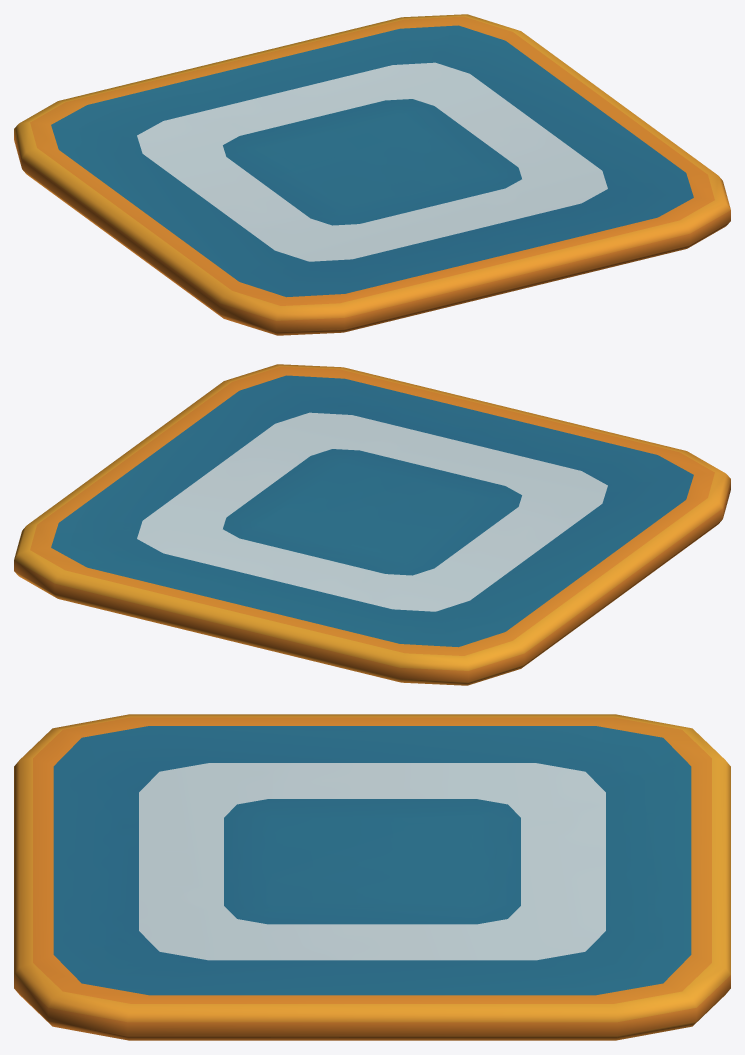
Rendered from carpet1_LOD_setup.fbx.
3 views of the same model, one above another, from view 1: azimuth 30°, elevation 25°; view 2: azimuth 150°, elevation 25°; view 3: azimuth 270°, elevation 25° (orthographic). The views are drawn at different scales.
Visible parts, largest first — view 1: carpet1_LOD0; view 2: carpet1_LOD0; view 3: carpet1_LOD0.
Boxes of the visible parts, x1,y1,x2,y2 form: carpet1_LOD0: (14, 14, 730, 335); carpet1_LOD0: (14, 364, 730, 685); carpet1_LOD0: (14, 714, 730, 1040).
Size of what is drawn, in the model's own units: 225 by 11.68 by 225.
